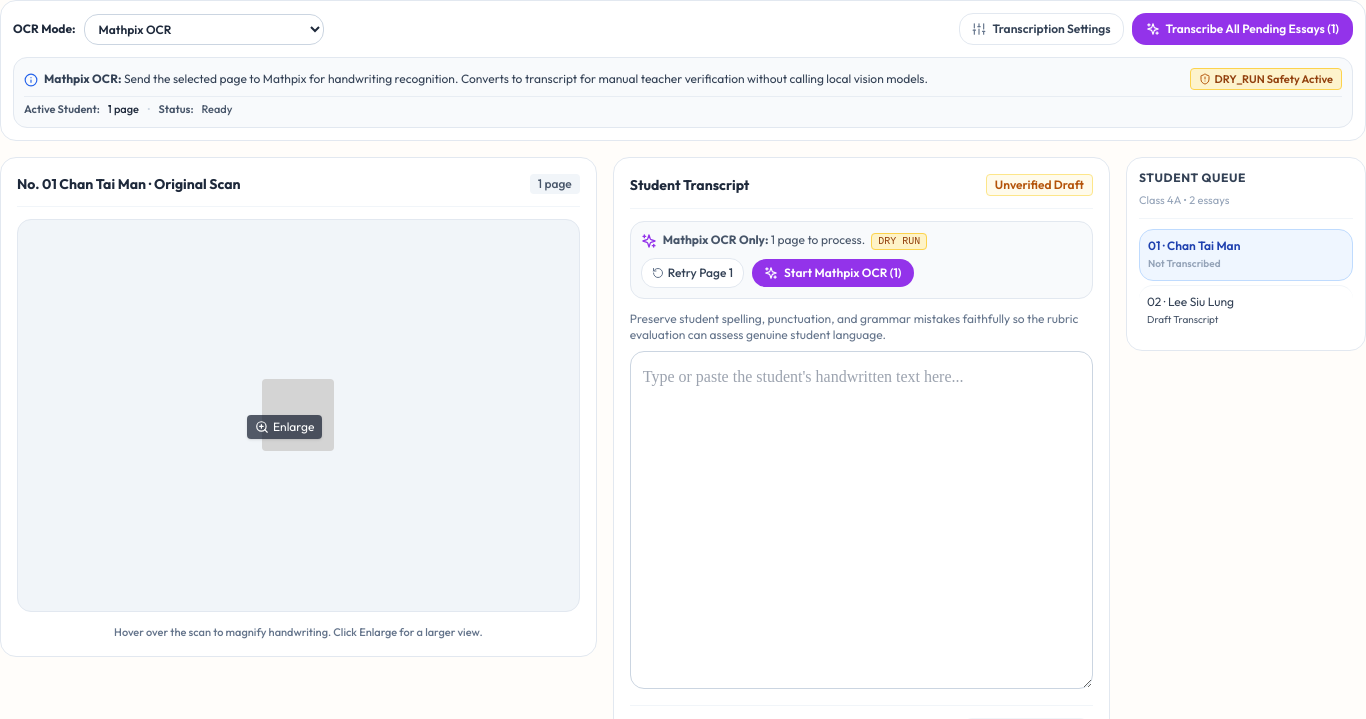
Test case: Step 4: Verify Script - Mathpix OCR & Mode Selector Requirements › 3. Mode B: Mathpix OCR + Qwen VL Verify › runs Mathpix first, then passes image and transcript to Qwen VL verification
The width and height of the screenshot is (1366, 719).
Switch to Mode B: Mathpix OCR + Qwen VL Verify
Select "Mathpix OCR + Qwen VL Verify" in the dropdown labelled "OCR Mode:" at (204, 29), box [84, 14, 324, 44]
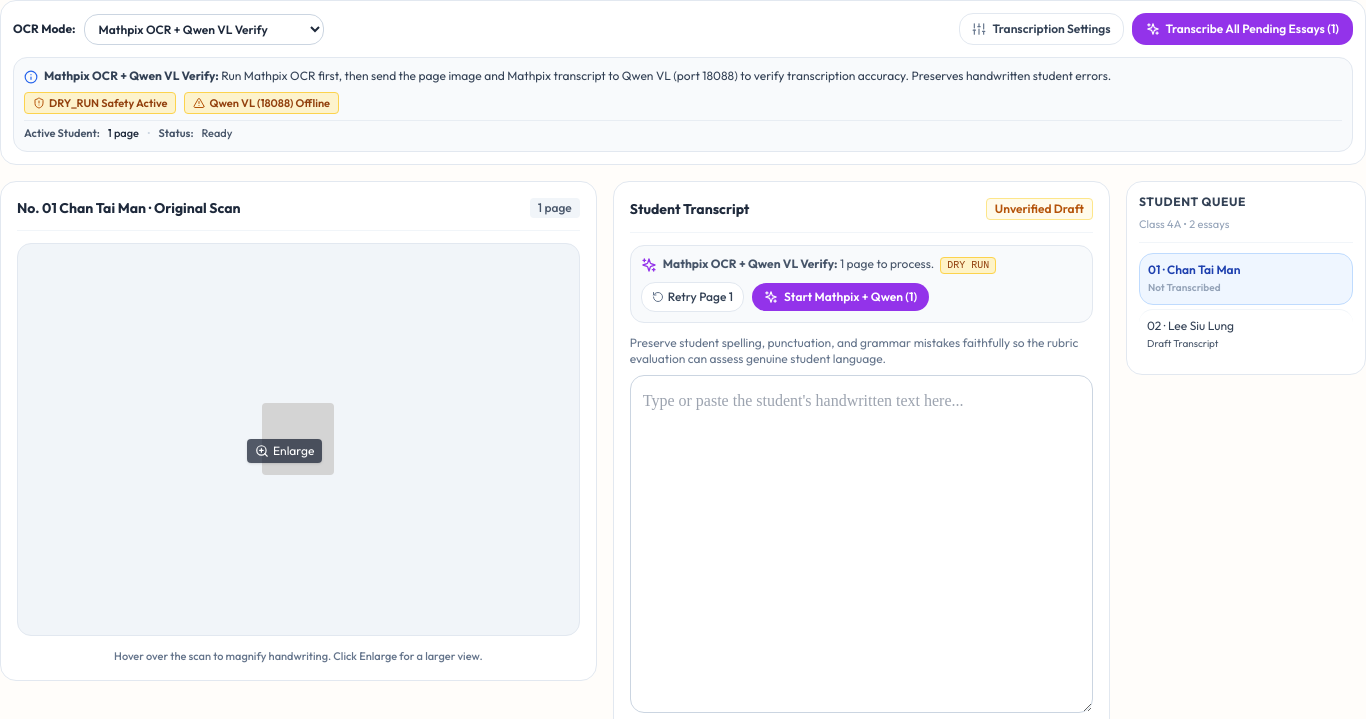
Click Start Mathpix + Qwen
Click the button "Start Mathpix + Qwen (1)" at (840, 297), box [752, 283, 929, 311]
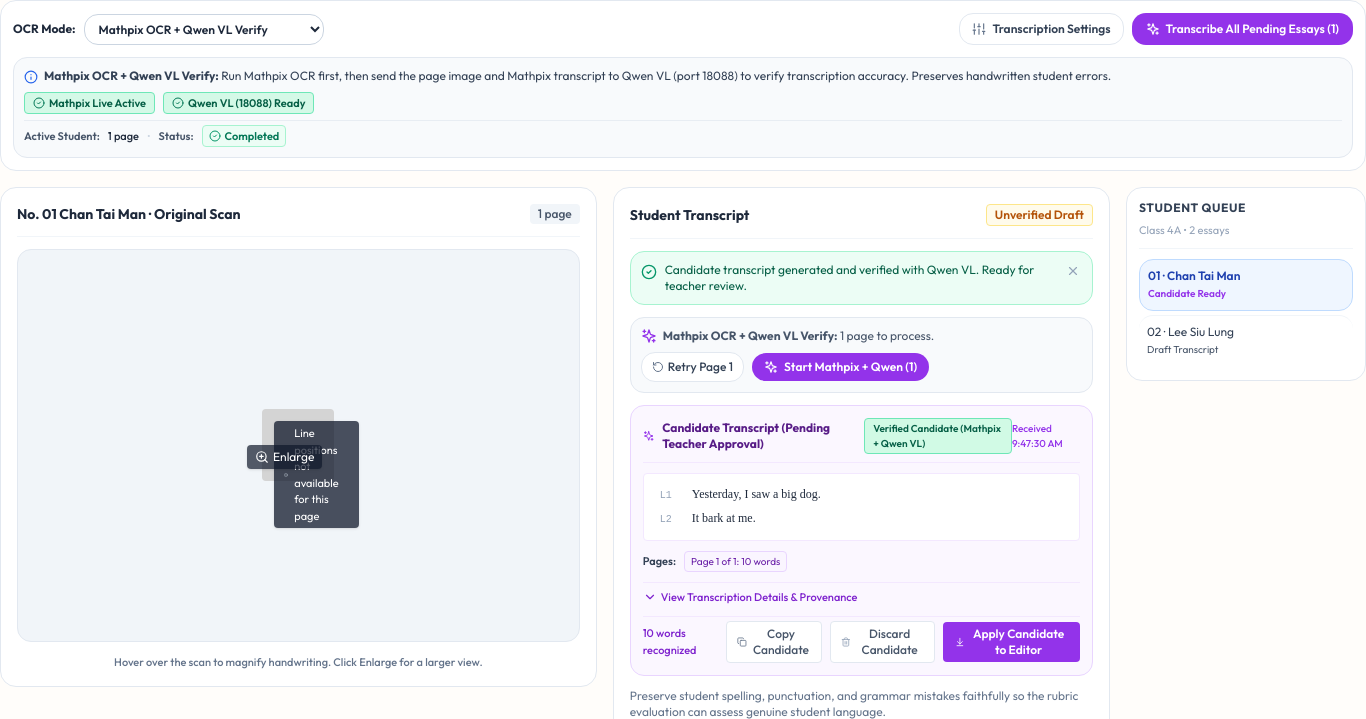
Check: the text "Verified Candidate (Mathpix + Qwen VL)" is shown, box [864, 418, 1012, 454]
